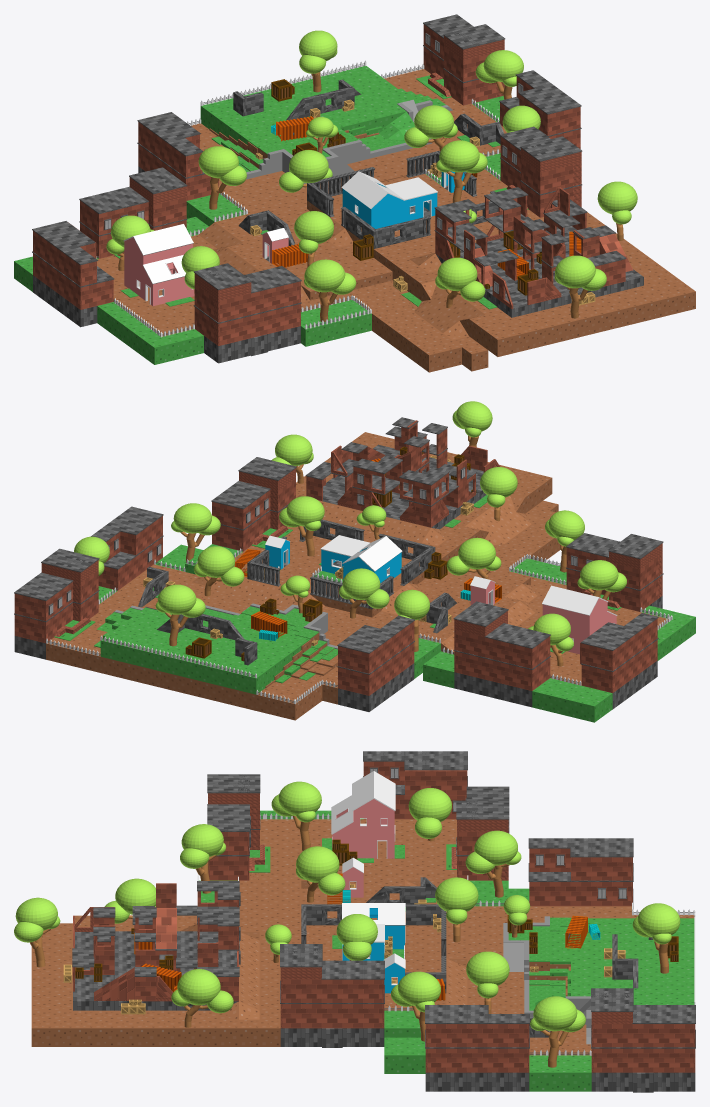
The model's file is pleasesigmacity.glb.
3 views of the same model, one above another, from view 1: azimuth 30°, elevation 25°; view 2: azimuth 150°, elevation 25°; view 3: azimuth 270°, elevation 25° (orthographic). The views are drawn at different scales.
Visible parts, largest first — view 1: Dirt.414; view 2: Dirt.414; view 3: Dirt.414.
Boxes of the visible parts, x1,y1,x2,y2 form: Dirt.414: [14, 14, 695, 372]; Dirt.414: [14, 401, 695, 722]; Dirt.414: [14, 751, 695, 1092].
Size of what is drawn, in the model's own units: 64.15 by 12.1 by 65.77.
25 materials, 8 textured.
